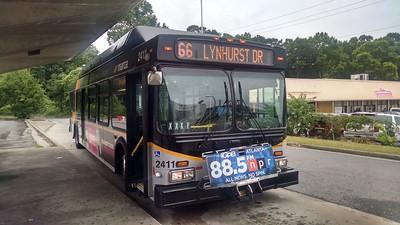bus: (71, 34, 298, 212)
